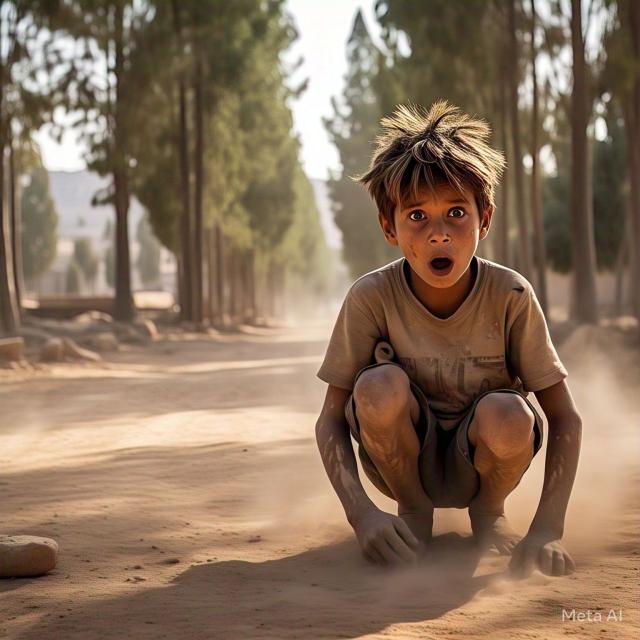injury: (356, 99, 504, 318)
no injury: (316, 100, 582, 578)
